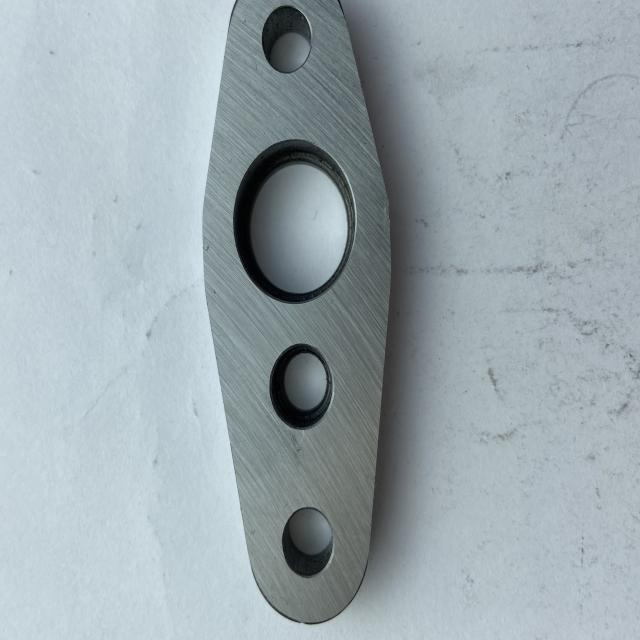chap: (205, 242, 212, 256)
lines: (282, 432, 302, 468)
